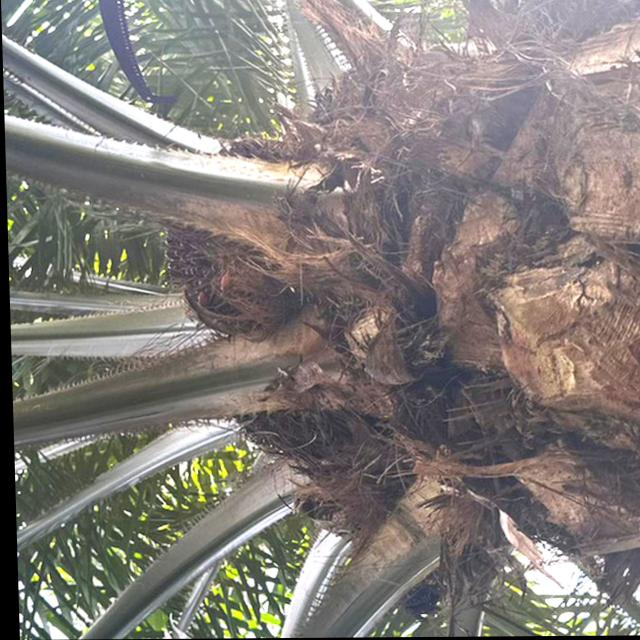ripe: (150, 133, 329, 345)
